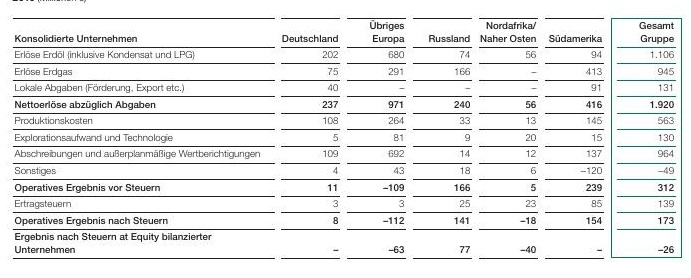table: (0, 0, 691, 278)
